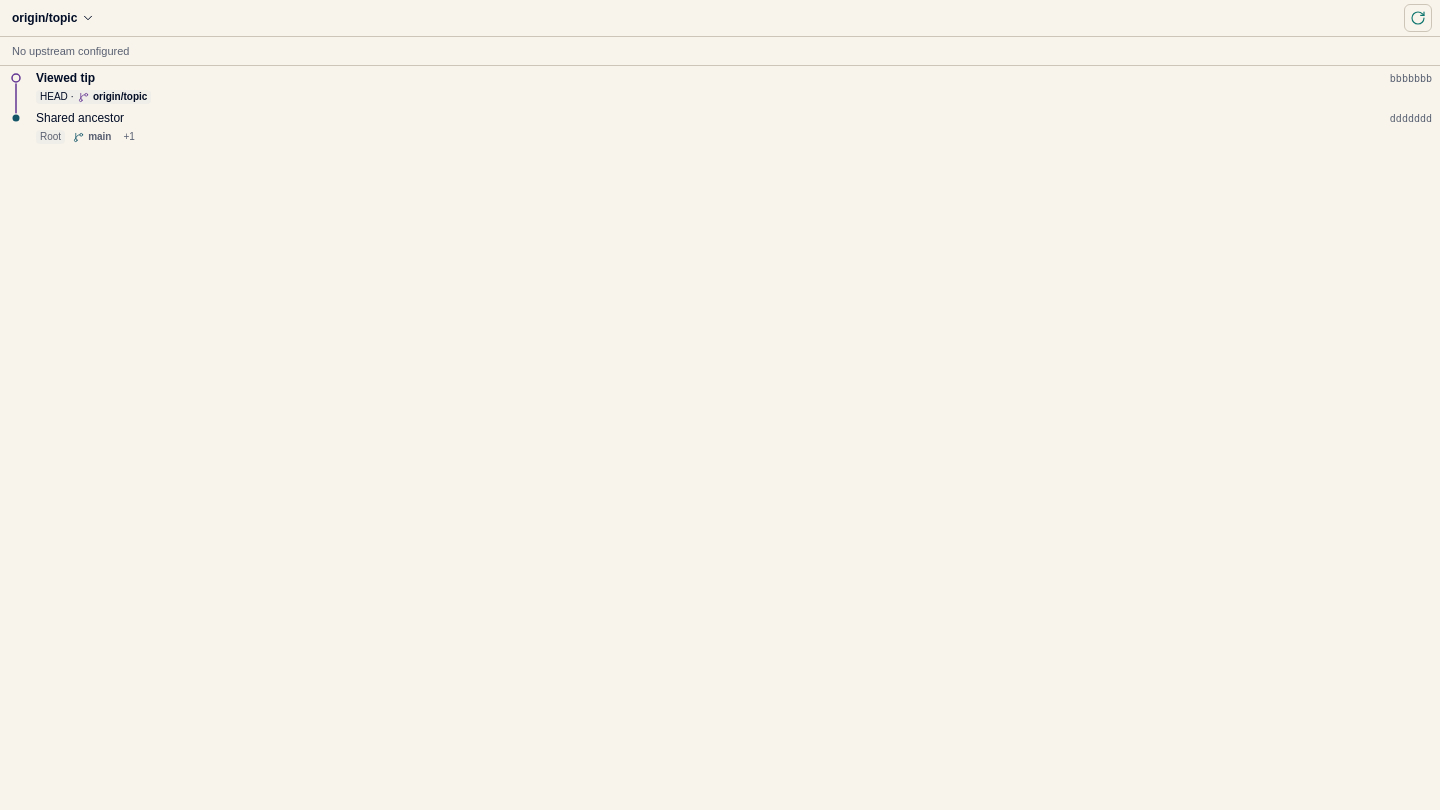
Scenario: a viewed local branch name does not promote a coincident remote-tracking name
Click the button "+1".
click(129, 137)  # box [120,130,139,144]
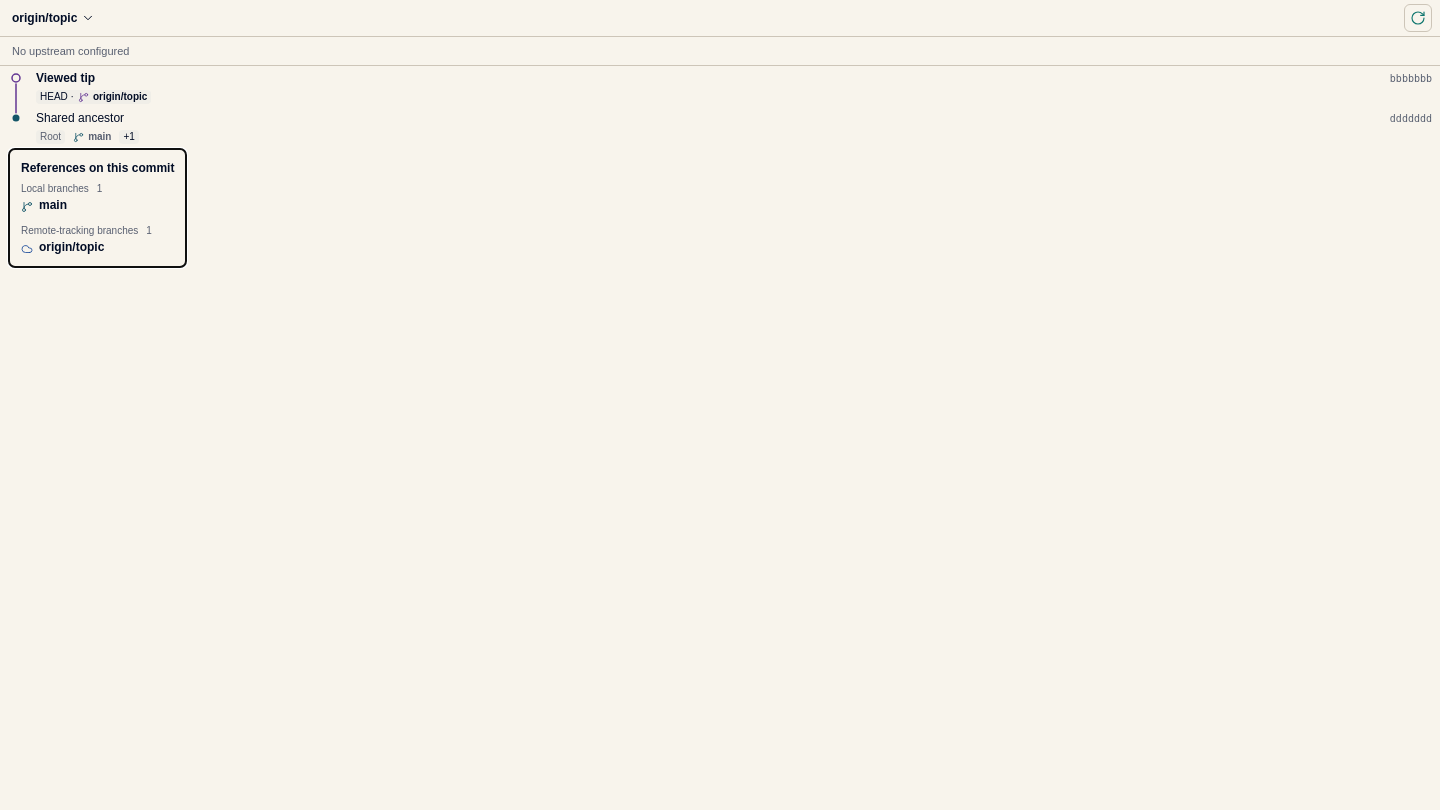
Expected: the element "Remote-tracking branches" shows "origin/topic", [39,240,104,254]
